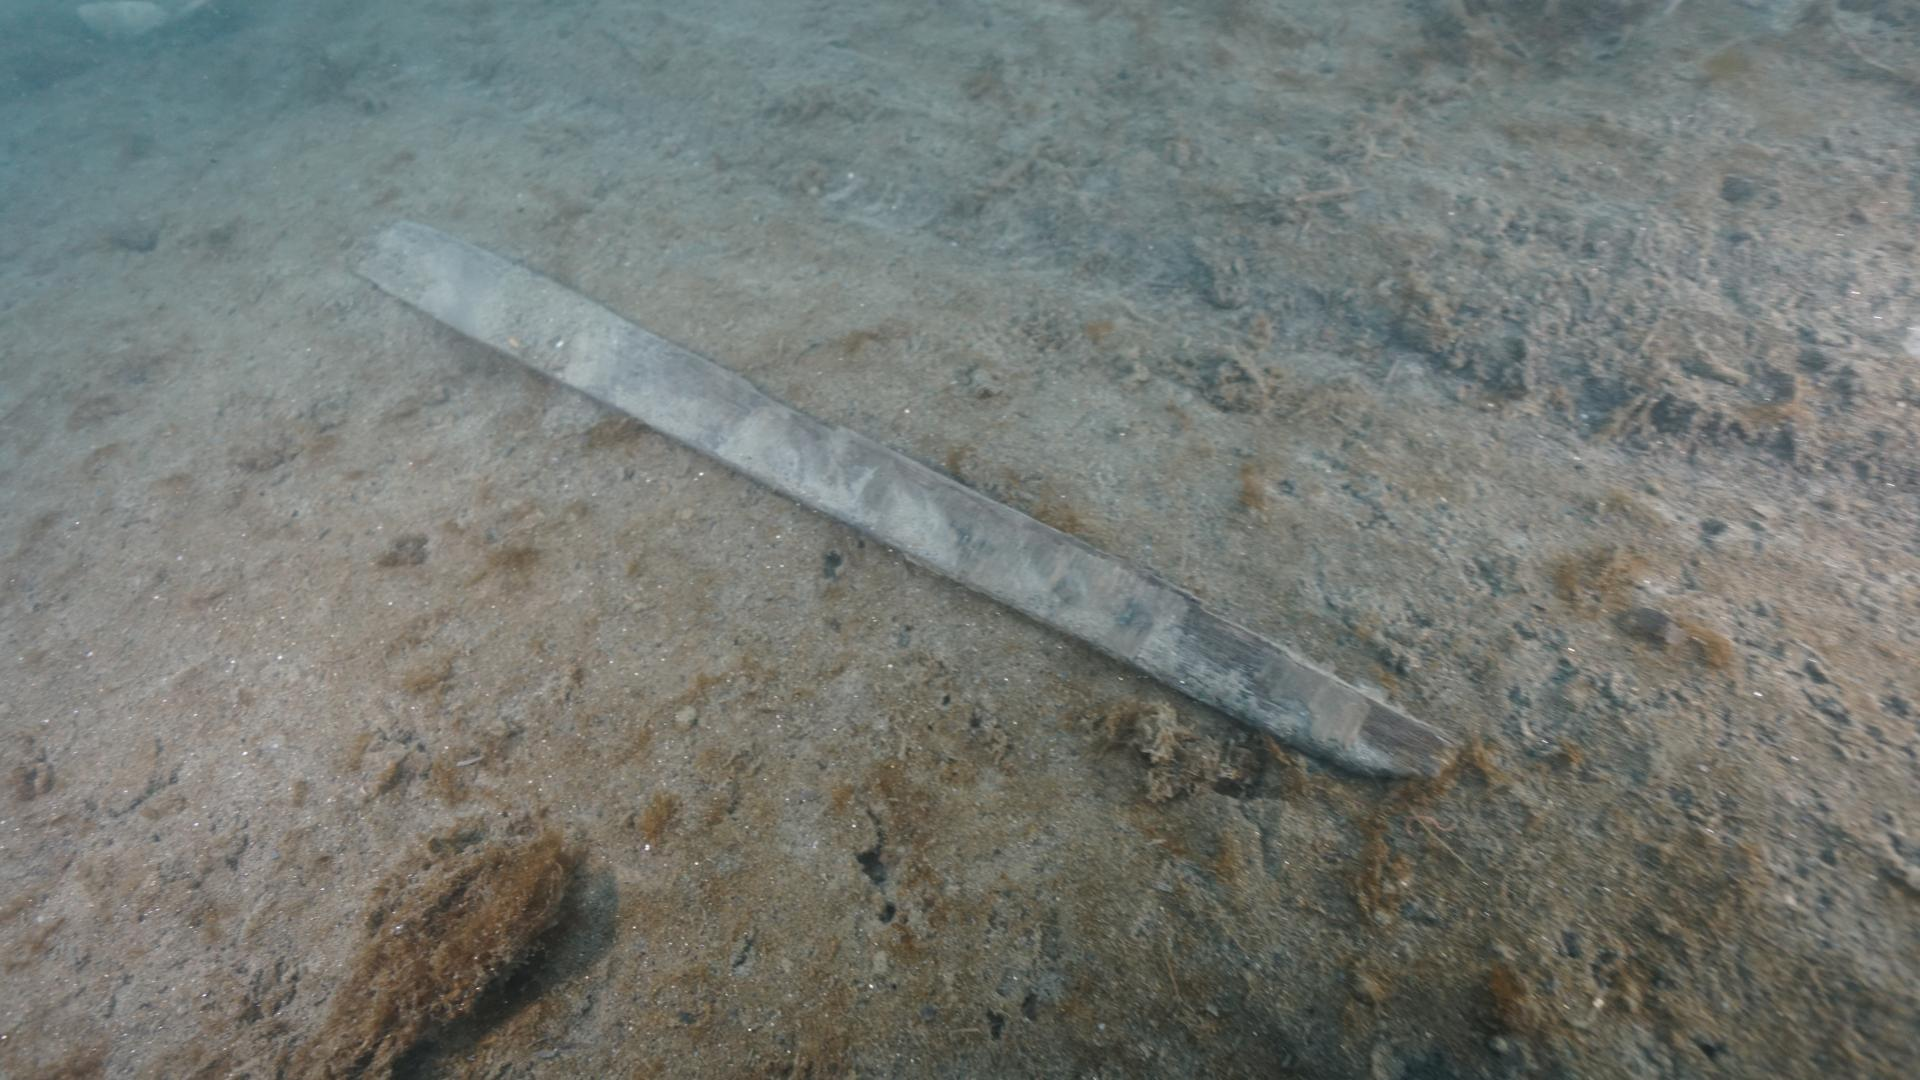wood: (347, 218, 1461, 775)
